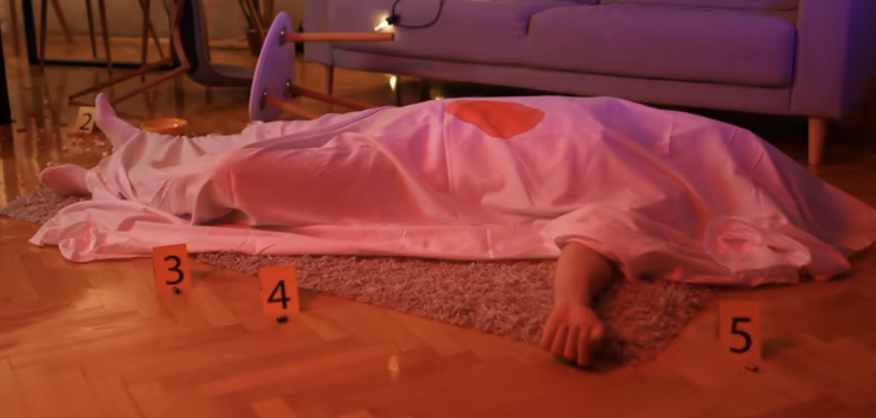blood_14.png: (436, 95, 557, 145)
